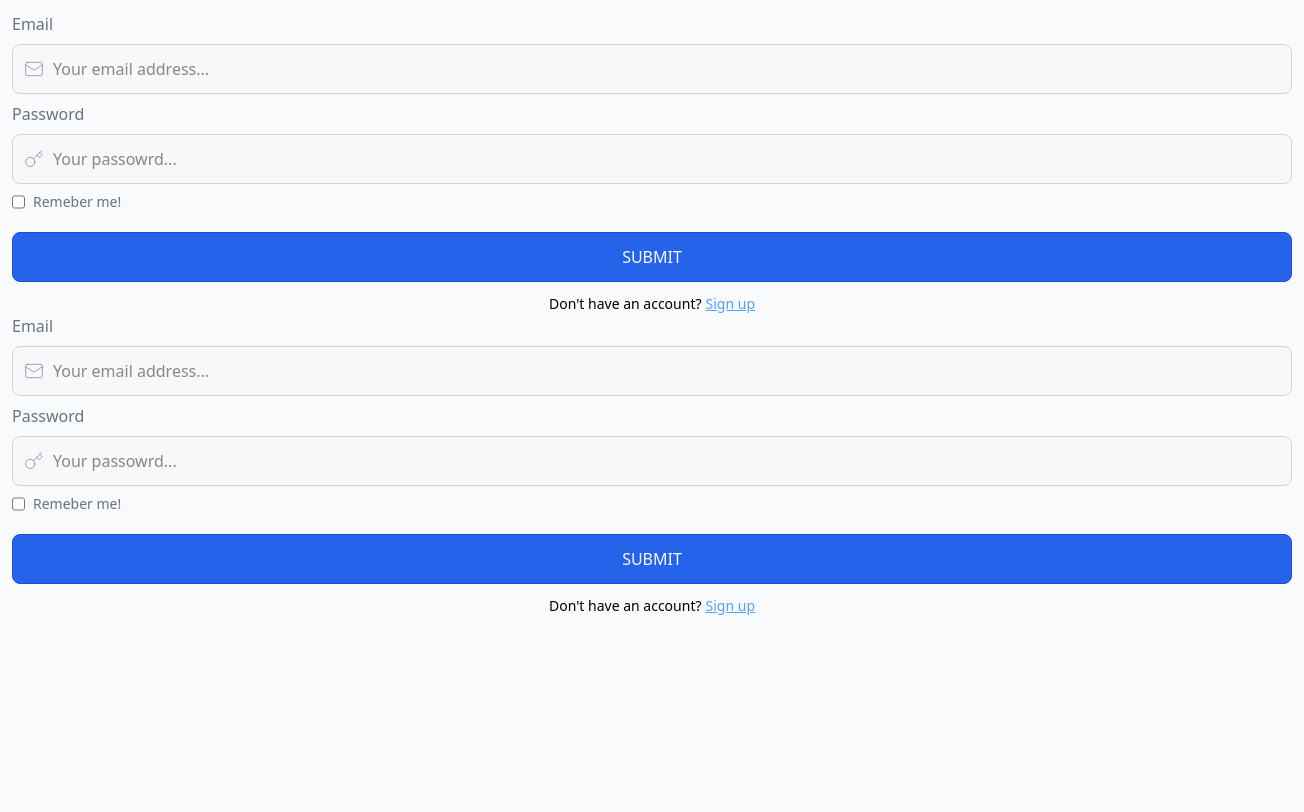
Test: Login Form › check validation › incorrect format email
Type "abc" into the field labelled "Email". click: (652, 69)
box: [12,44,1292,94]
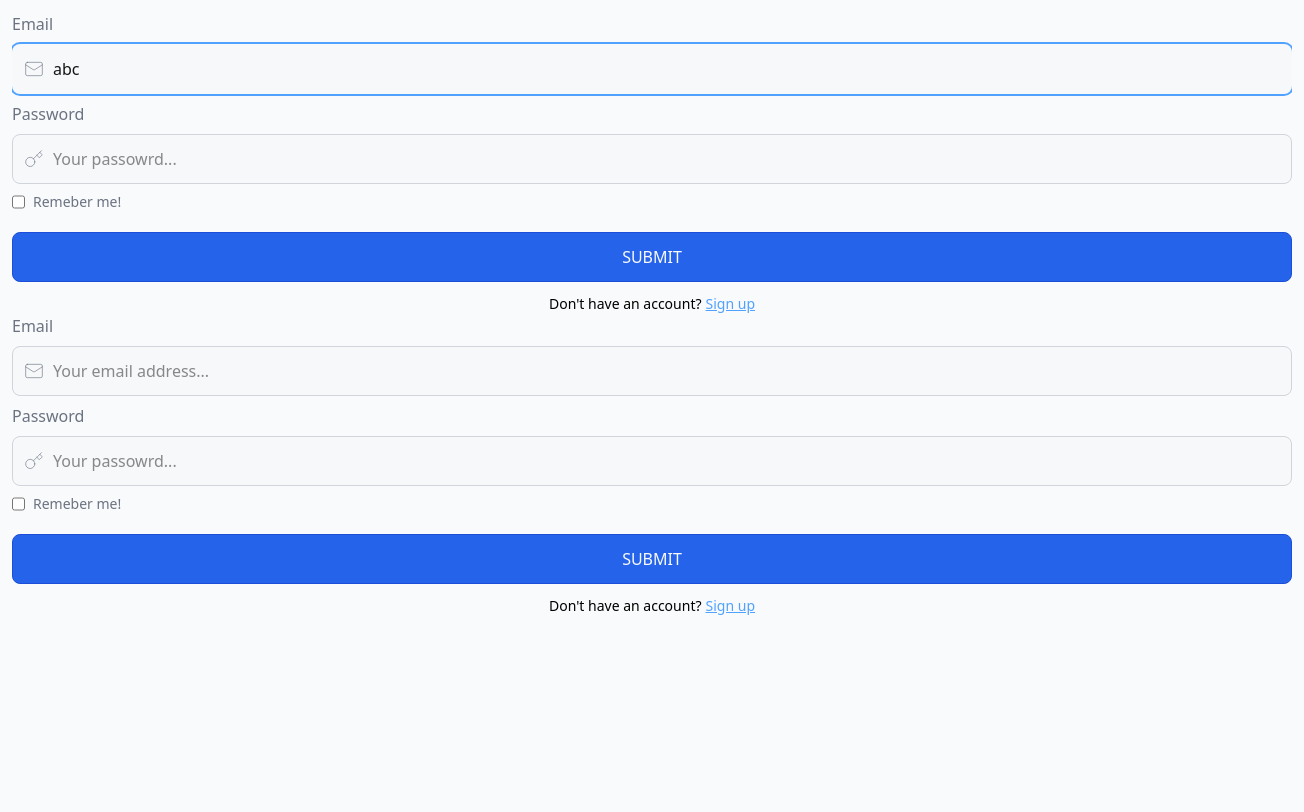
Click the 1st button "SUBMIT". click: (652, 257)
box: [12,232,1292,282]
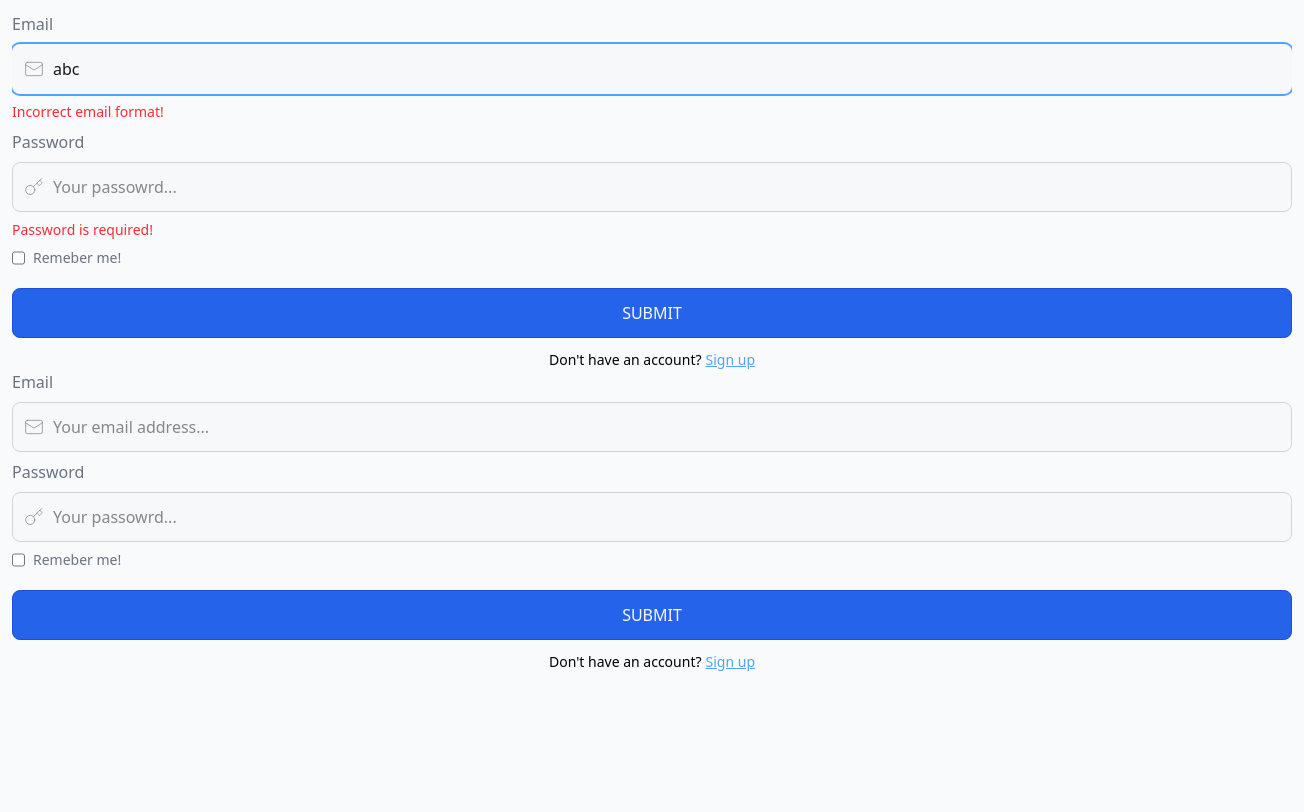
Expected: the text "Incorrect email format!" is shown, [12,102,164,121]
